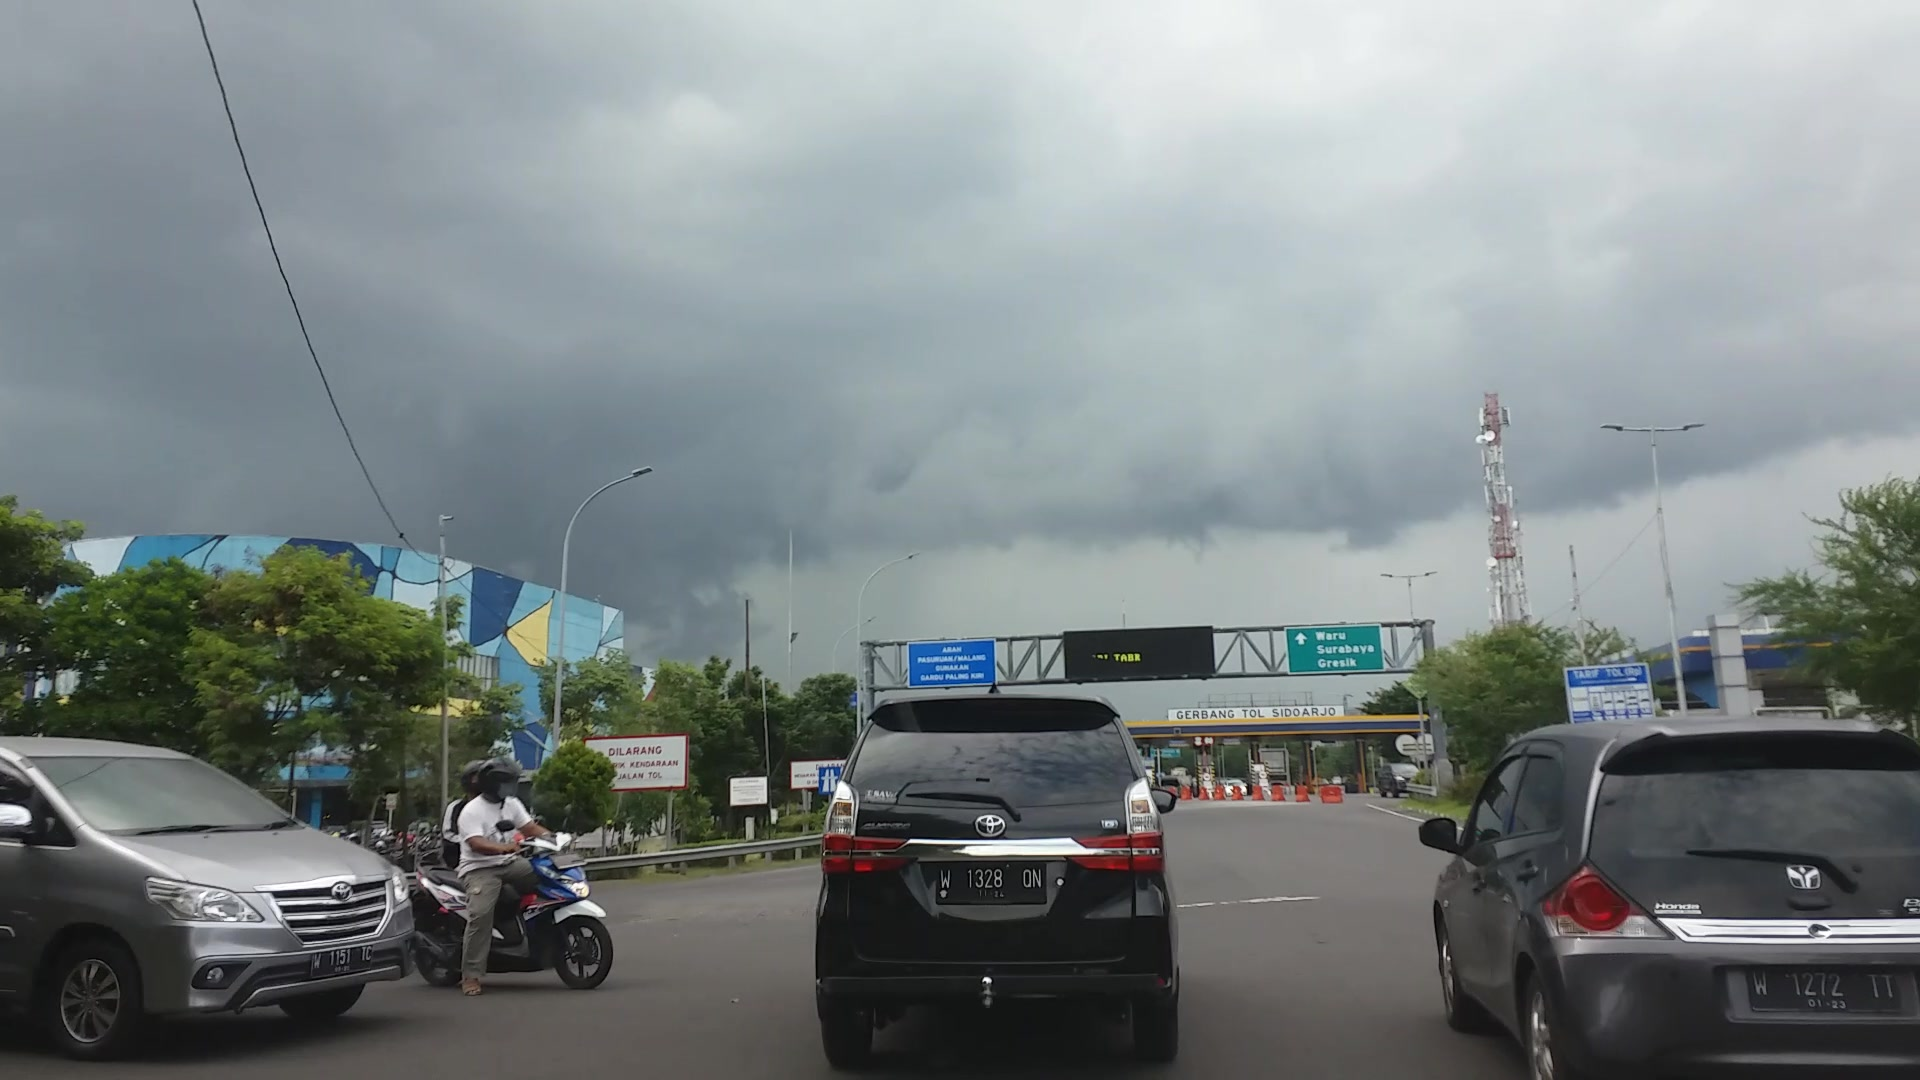plate_positive: (1745, 964, 1902, 1013), (936, 861, 1047, 905)
